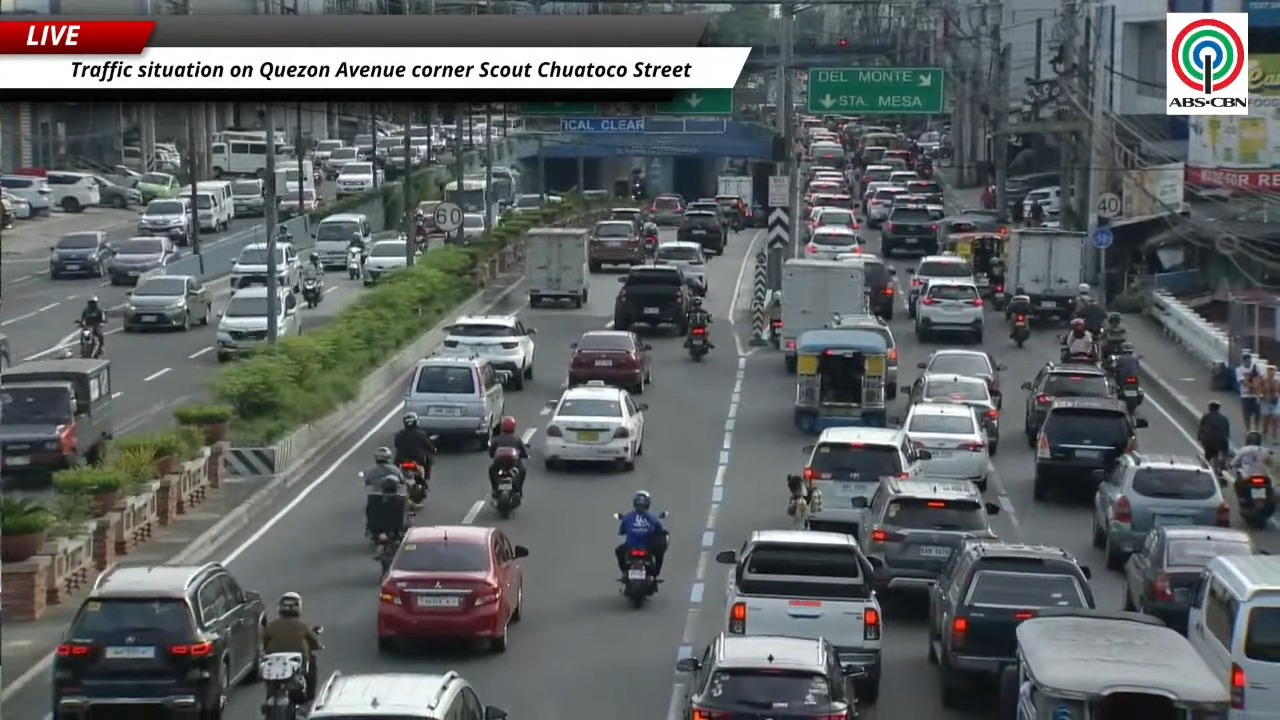bus: (210, 139, 267, 177)
car: (51, 563, 267, 717), (715, 530, 883, 703), (928, 541, 1094, 705), (376, 526, 528, 652), (855, 475, 999, 592), (1092, 452, 1229, 569), (677, 635, 864, 719), (1123, 526, 1258, 634), (802, 428, 928, 534), (1033, 397, 1147, 501), (404, 349, 510, 448), (307, 671, 506, 719), (543, 380, 646, 470), (902, 372, 999, 455), (1021, 362, 1114, 446), (903, 402, 990, 490), (443, 315, 535, 389), (830, 313, 898, 399), (567, 329, 651, 393), (615, 265, 689, 336), (918, 348, 1006, 407), (122, 275, 211, 331), (914, 280, 984, 343), (907, 255, 975, 318), (836, 249, 896, 320), (881, 194, 939, 257), (108, 236, 176, 284), (49, 230, 113, 278), (587, 220, 644, 271), (654, 241, 707, 294), (361, 231, 410, 285), (1006, 171, 1060, 220), (136, 198, 192, 244), (676, 206, 727, 254), (45, 171, 101, 212), (0, 175, 52, 215), (804, 226, 863, 259), (938, 213, 1007, 241), (865, 184, 905, 228), (335, 161, 381, 198), (91, 175, 141, 208), (894, 191, 945, 221), (686, 198, 729, 233), (136, 172, 182, 203), (806, 206, 858, 233), (715, 194, 754, 228), (278, 188, 319, 220), (232, 178, 265, 216), (323, 147, 363, 178), (1022, 185, 1060, 217), (860, 180, 892, 215), (649, 194, 684, 226), (805, 176, 844, 201), (859, 144, 896, 170), (906, 179, 943, 204), (607, 208, 645, 231), (0, 191, 31, 219), (311, 139, 344, 165), (807, 192, 851, 211), (510, 193, 549, 214), (810, 168, 848, 189), (881, 148, 913, 171), (461, 213, 487, 241), (860, 164, 893, 185), (889, 171, 919, 185), (0, 332, 11, 367)
motorcycle: (258, 653, 314, 719), (620, 548, 660, 608), (1234, 474, 1276, 528), (492, 469, 521, 518), (399, 461, 428, 504), (374, 533, 401, 576), (1058, 335, 1098, 363), (1118, 376, 1145, 416), (76, 322, 100, 358), (686, 326, 710, 362), (1011, 313, 1029, 347), (302, 278, 323, 307), (346, 246, 362, 279), (643, 234, 659, 259), (768, 320, 780, 348), (313, 168, 324, 188)
truck: (780, 258, 867, 372), (1005, 228, 1091, 319), (525, 228, 588, 307), (716, 175, 759, 226), (276, 159, 314, 195)
